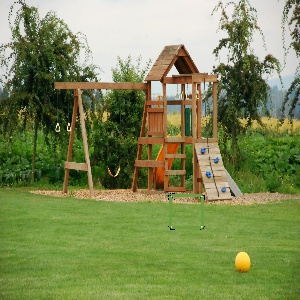square: (166, 190, 208, 233)
